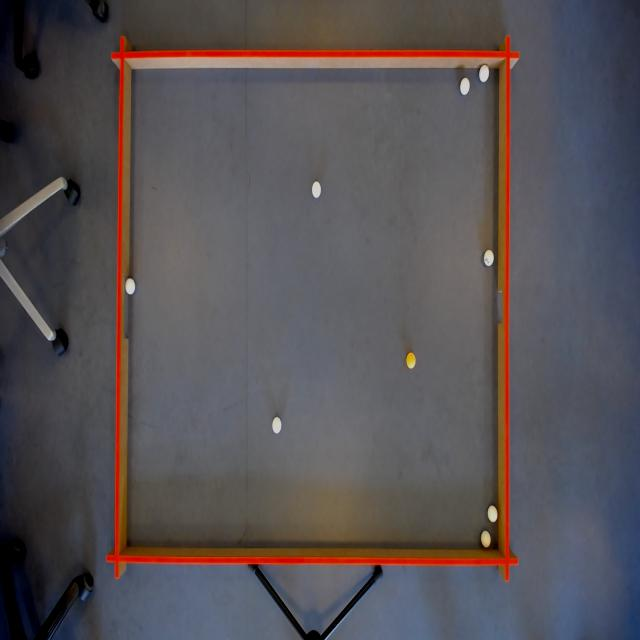orange_ball: (405, 350, 418, 372)
white_ball: (124, 274, 137, 298), (487, 502, 499, 526), (478, 63, 491, 85), (311, 178, 323, 200), (483, 248, 495, 269), (480, 529, 492, 549), (271, 416, 283, 436), (460, 77, 470, 97)
